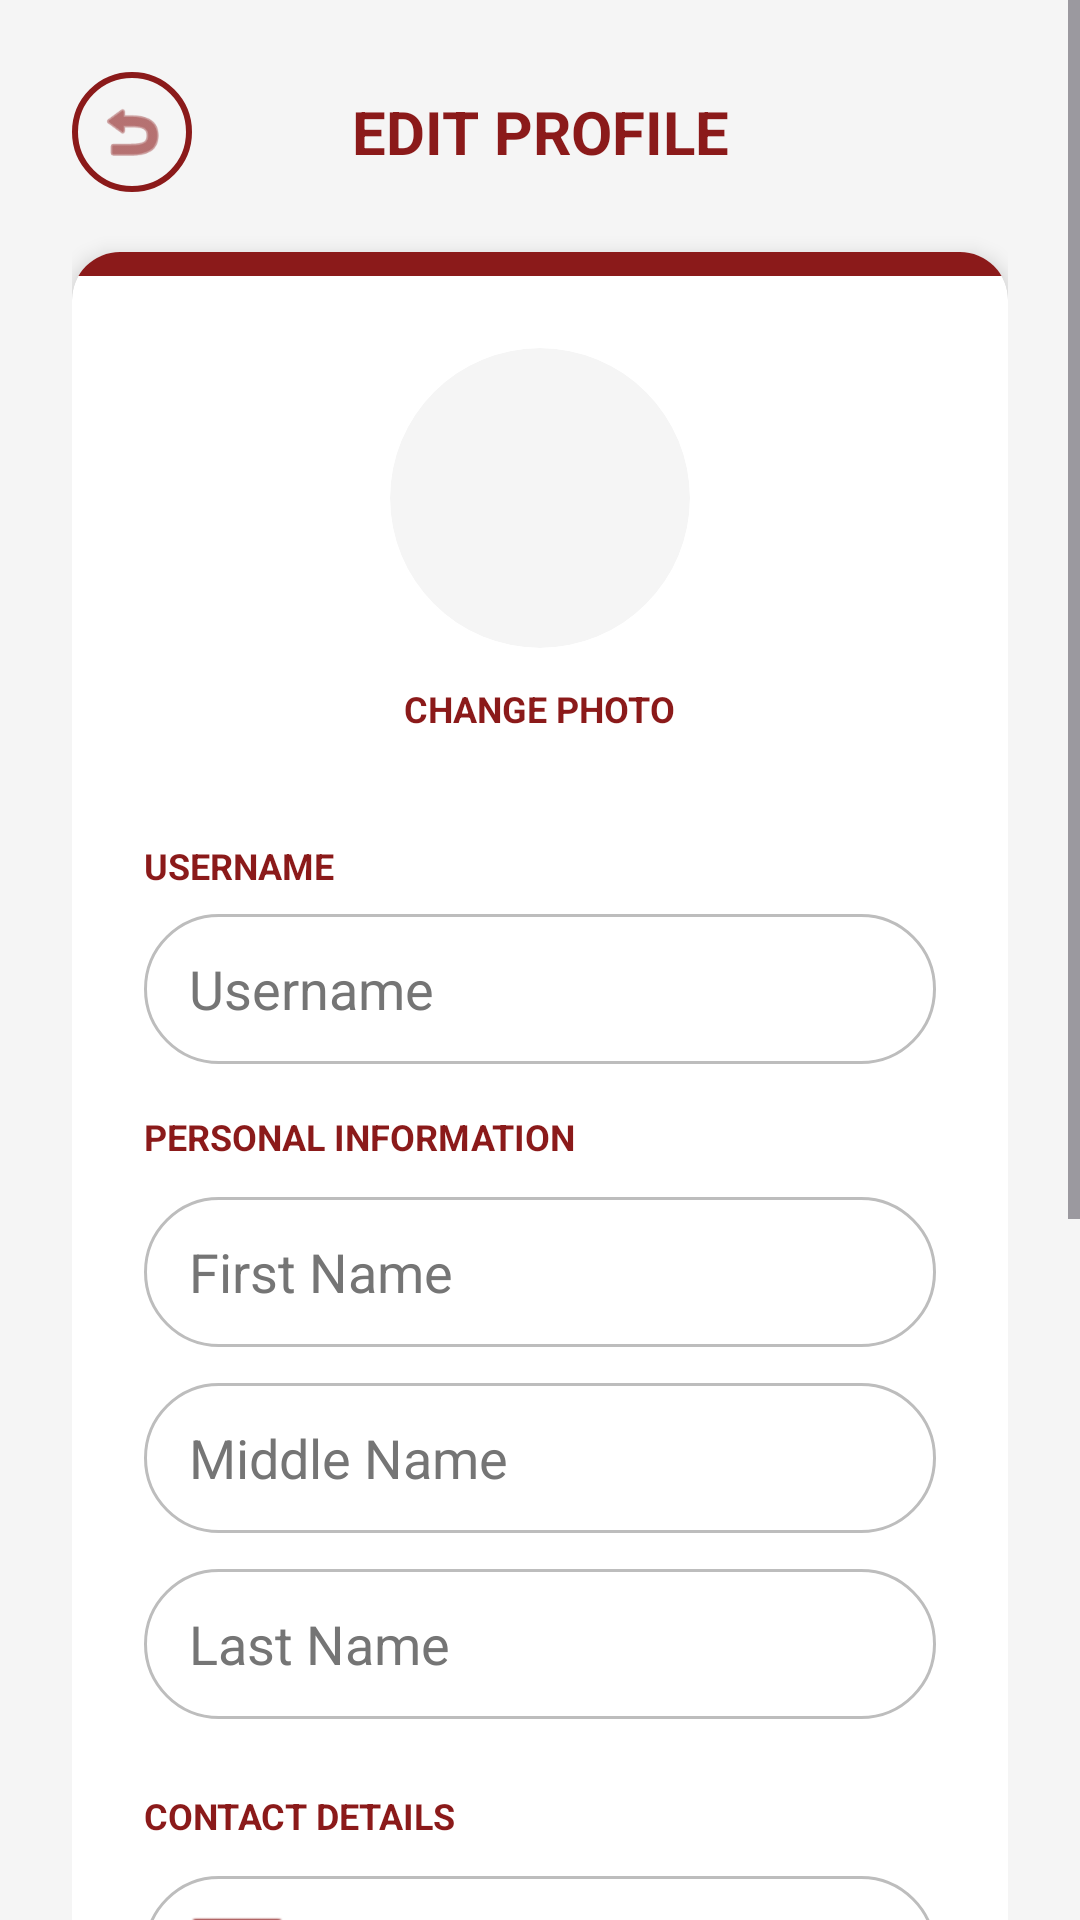

Icon bounding boxes for this 1080x1920 phone screenshot, format detection(x1, y1, x2, y2):
revert: detection(72, 72, 192, 192)
